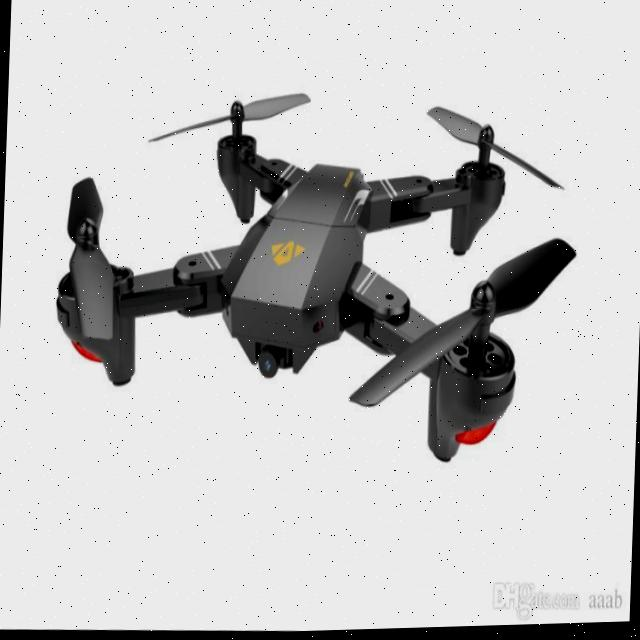drone: (0, 33, 614, 490)
